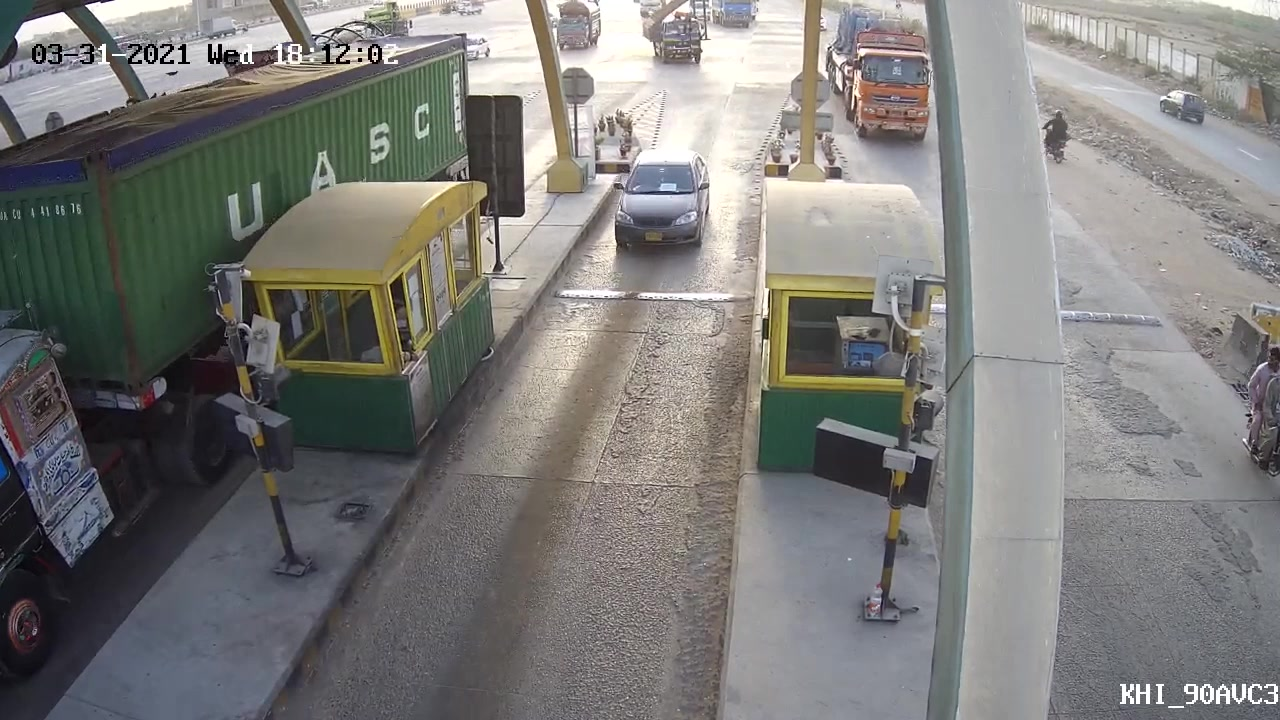F1: (599, 145, 719, 265)
